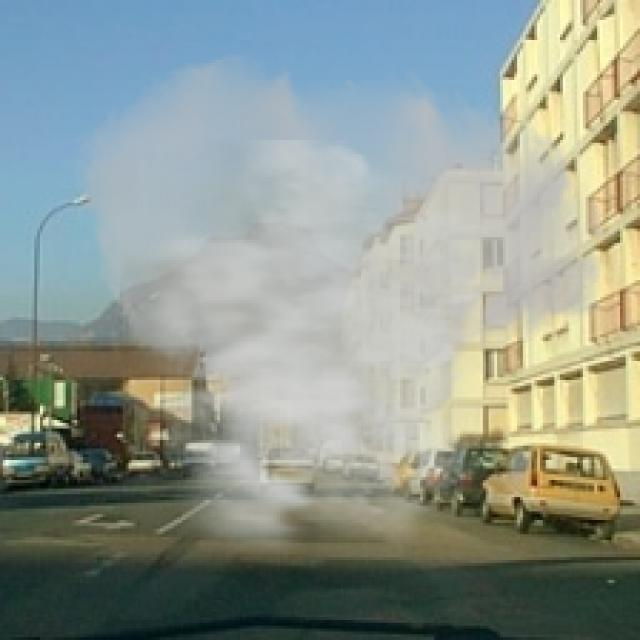smoke: (69, 51, 612, 580)
